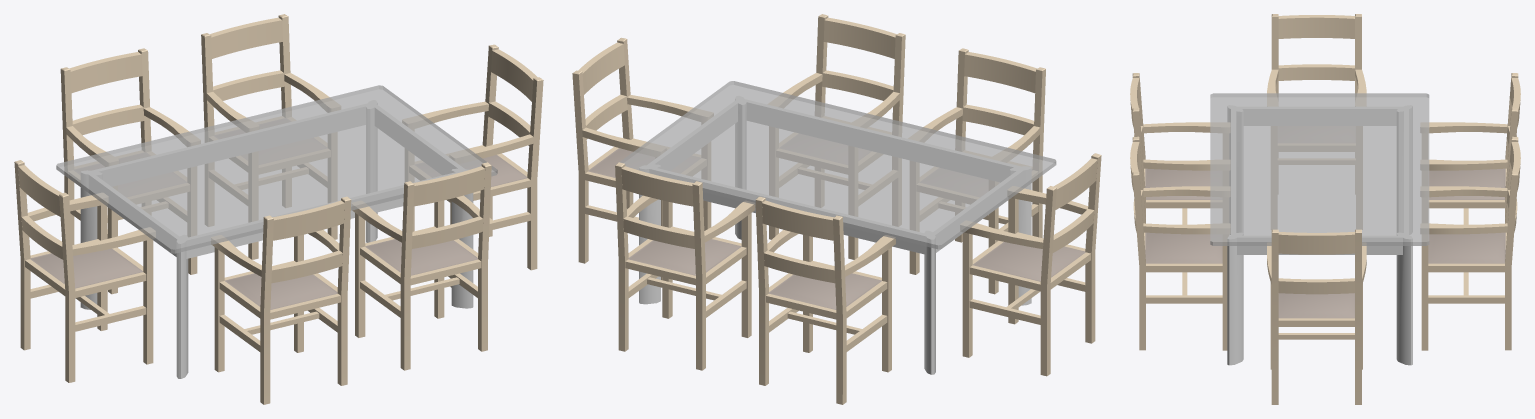
File: Table and Chairs.glb
3 views of the same model, side by side, from view 1: azimuth 30°, elevation 25°; view 2: azimuth 150°, elevation 25°; view 3: azimuth 270°, elevation 25° (orthographic). The views are drawn at different scales.
Parts seen in each view (by area): view 1: Mesh2 Group2 Model, Mesh1 Group1 Model, Mesh6 chair4 Model, Mesh5 chair3 Model, Mesh7 chair5 Model, Mesh4 chair2 Model, Mesh3 chair1 Model, Mesh8 chair6 Model; view 2: Mesh2 Group2 Model, Mesh1 Group1 Model, Mesh4 chair2 Model, Mesh3 chair1 Model, Mesh7 chair5 Model, Mesh5 chair3 Model, Mesh6 chair4 Model, Mesh8 chair6 Model; view 3: Mesh2 Group2 Model, Mesh1 Group1 Model, Mesh8 chair6 Model, Mesh7 chair5 Model, Mesh4 chair2 Model, Mesh5 chair3 Model, Mesh3 chair1 Model, Mesh6 chair4 Model.
Boxes of the visible parts, left/top/right/bottom form: Mesh2 Group2 Model: left=56, top=85, right=497, bottom=253; Mesh1 Group1 Model: left=80, top=100, right=473, bottom=378; Mesh6 chair4 Model: left=211, top=196, right=351, bottom=404; Mesh5 chair3 Model: left=351, top=162, right=491, bottom=370; Mesh7 chair5 Model: left=14, top=160, right=155, bottom=382; Mesh4 chair2 Model: left=201, top=14, right=340, bottom=259; Mesh3 chair1 Model: left=60, top=48, right=200, bottom=294; Mesh8 chair6 Model: left=402, top=44, right=543, bottom=287; Mesh2 Group2 Model: left=619, top=81, right=1056, bottom=249; Mesh1 Group1 Model: left=639, top=96, right=1031, bottom=374; Mesh4 chair2 Model: left=615, top=162, right=755, bottom=370; Mesh3 chair1 Model: left=755, top=196, right=895, bottom=404; Mesh7 chair5 Model: left=960, top=153, right=1101, bottom=376; Mesh5 chair3 Model: left=768, top=14, right=905, bottom=259; Mesh6 chair4 Model: left=908, top=48, right=1045, bottom=294; Mesh8 chair6 Model: left=572, top=37, right=713, bottom=279; Mesh2 Group2 Model: left=1210, top=93, right=1429, bottom=245; Mesh1 Group1 Model: left=1227, top=105, right=1412, bottom=365; Mesh8 chair6 Model: left=1267, top=229, right=1366, bottom=404; Mesh7 chair5 Model: left=1267, top=14, right=1366, bottom=229; Mesh4 chair2 Model: left=1420, top=136, right=1520, bottom=350; Mesh5 chair3 Model: left=1130, top=136, right=1230, bottom=350; Mesh3 chair1 Model: left=1420, top=73, right=1520, bottom=224; Mesh6 chair4 Model: left=1130, top=73, right=1230, bottom=224.
Size of the model in its own units: 110 by 40.85 by 82.34.
